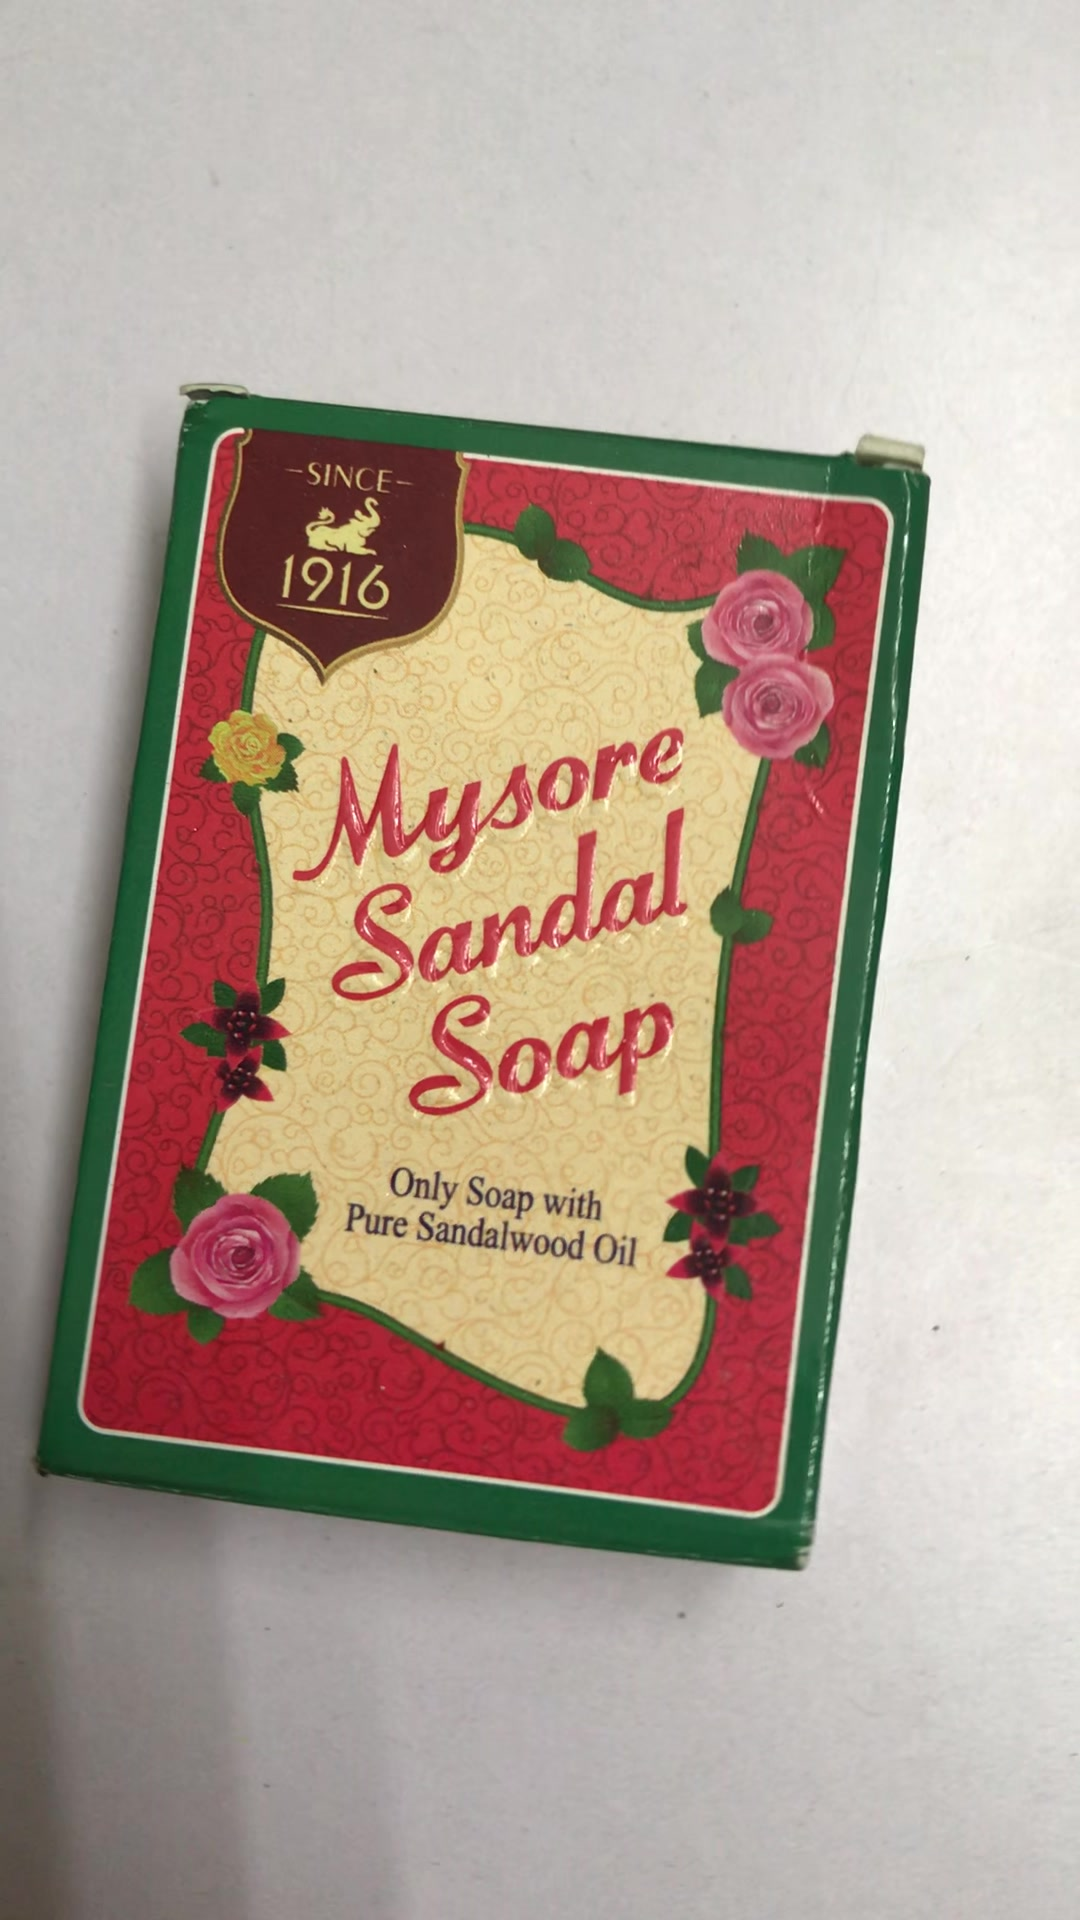mysore sandal soap: (36, 390, 932, 1571)
